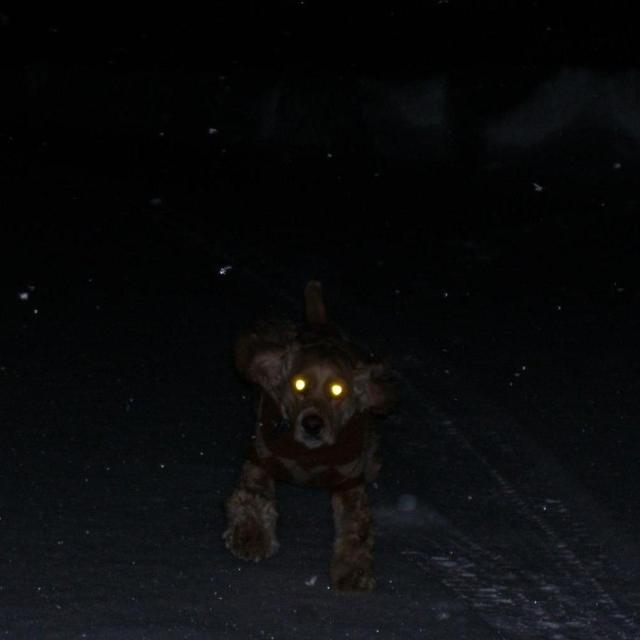dog: (202, 246, 407, 591)
